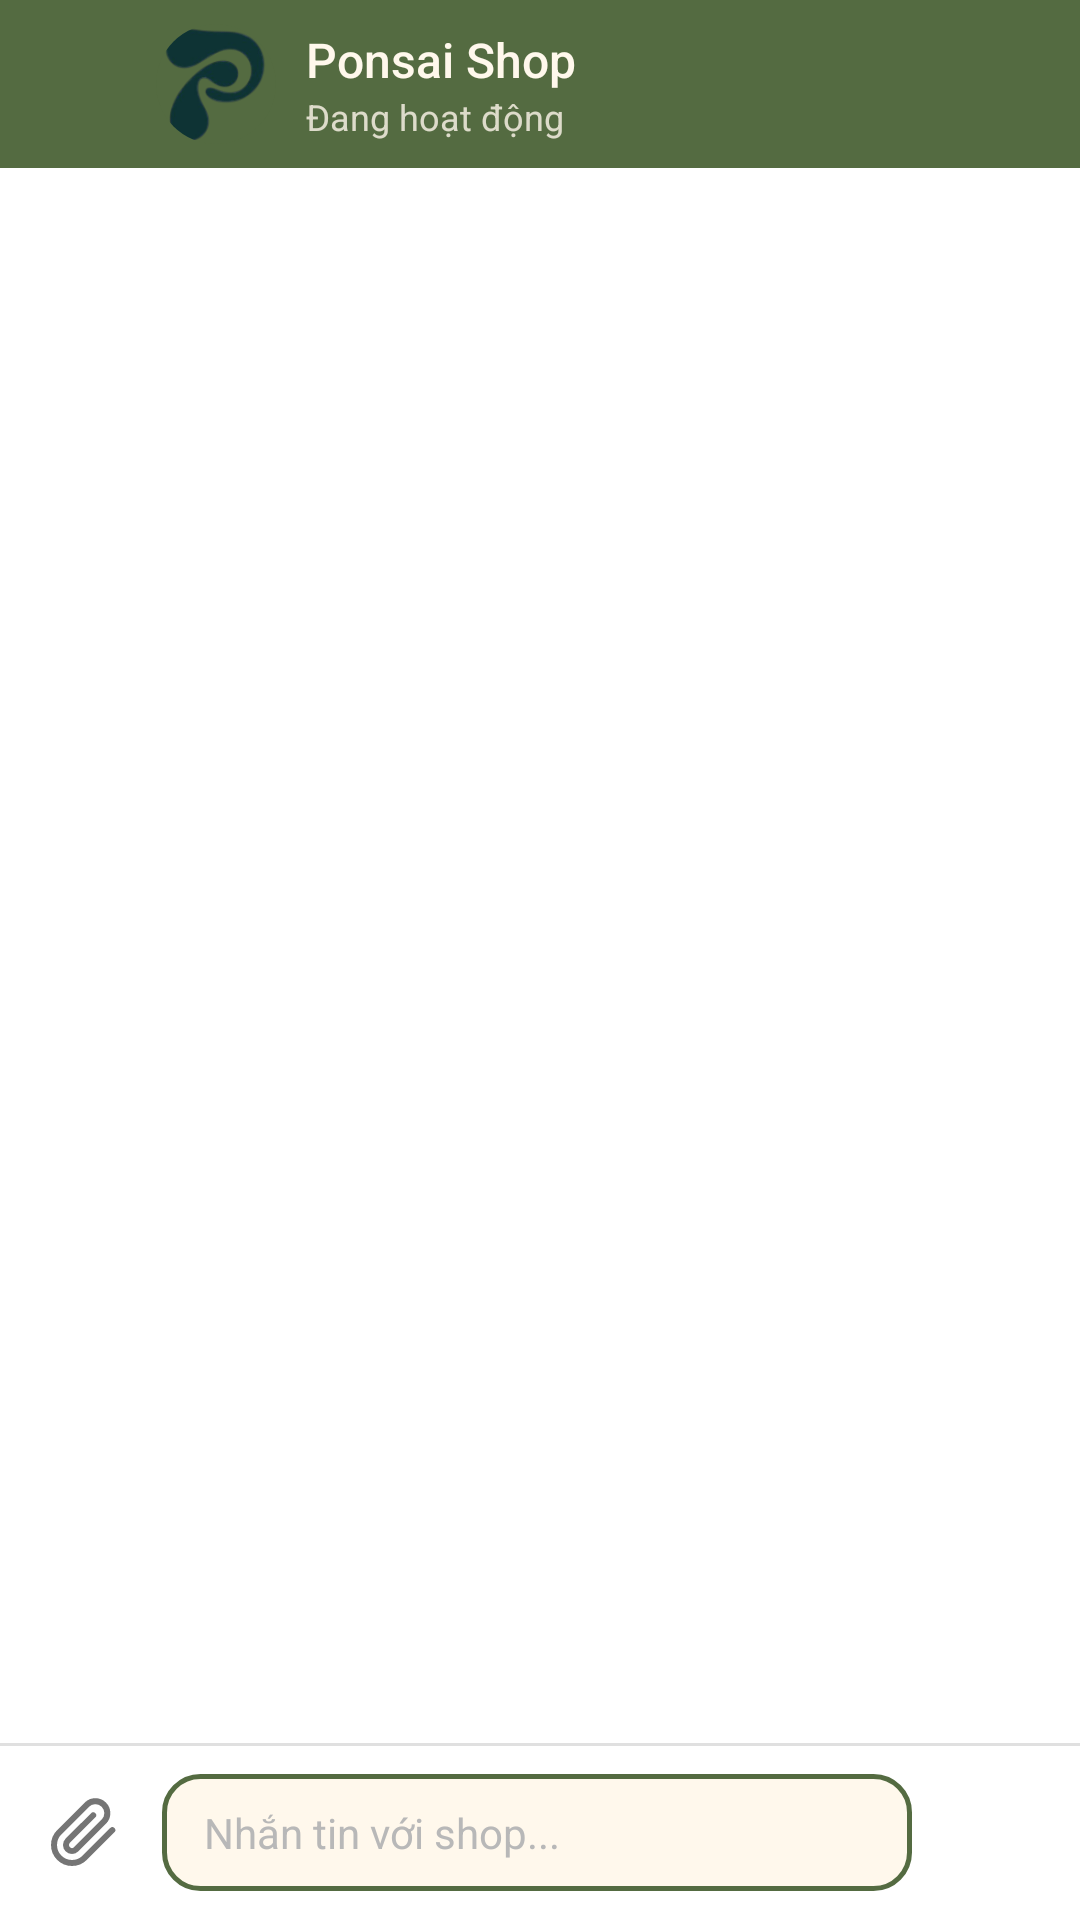

Icons on this 1080w x 1920h Android screen, each with its box as box(x1, y1, x2, y2):
Đính kèm ảnh: box(51, 1798, 116, 1866)
